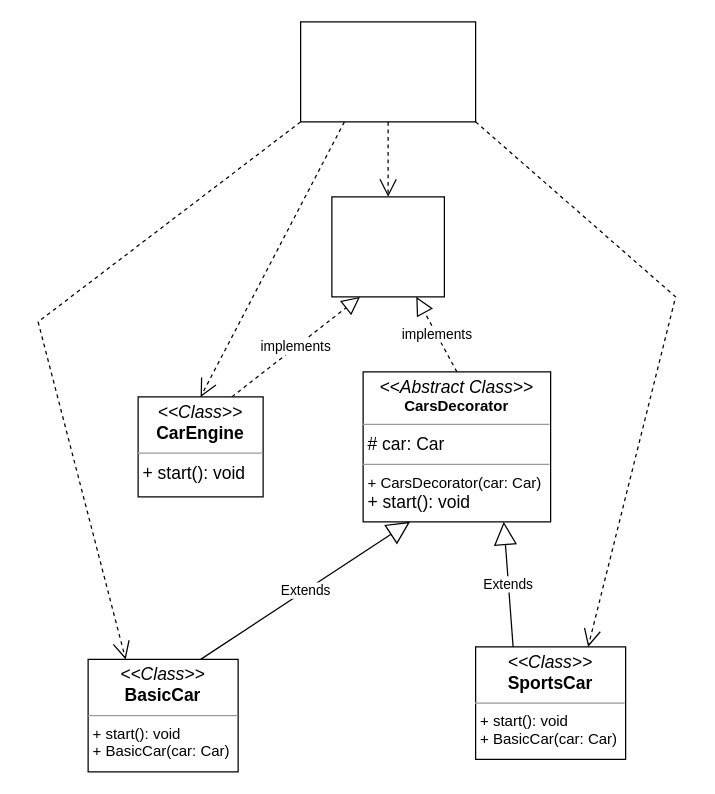
This 715x794 diagram has some shape labels left out. Here are the shapes that lost their labels. From the top down, the box of each, then its label:
(299, 21, 476, 122): <<Class>> Main + main(String[]): void
(331, 196, 444, 297): <<Interface>> Car + start(): void
